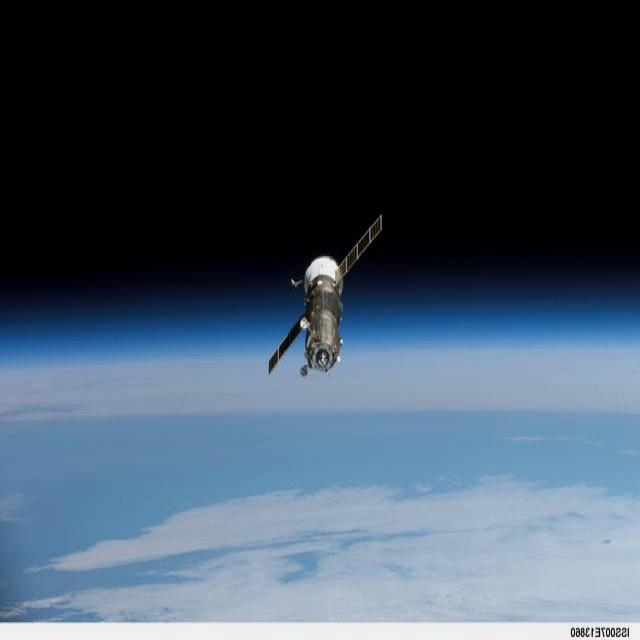medium_debris: (269, 215, 381, 375)
